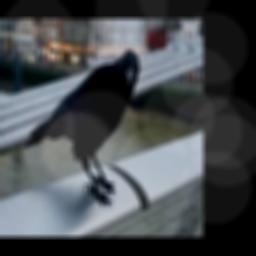Crow: (25, 50, 139, 207)
